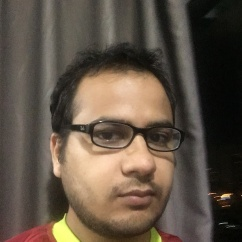glasses: (62, 123, 185, 152)
